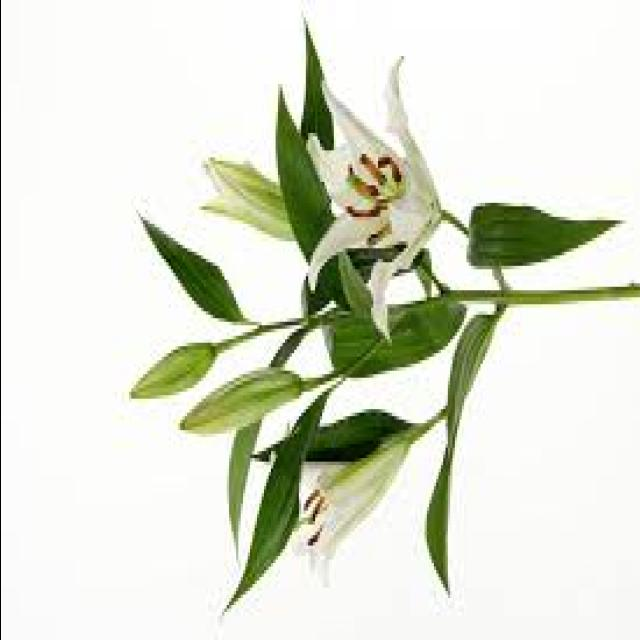lily: (256, 57, 484, 326)
